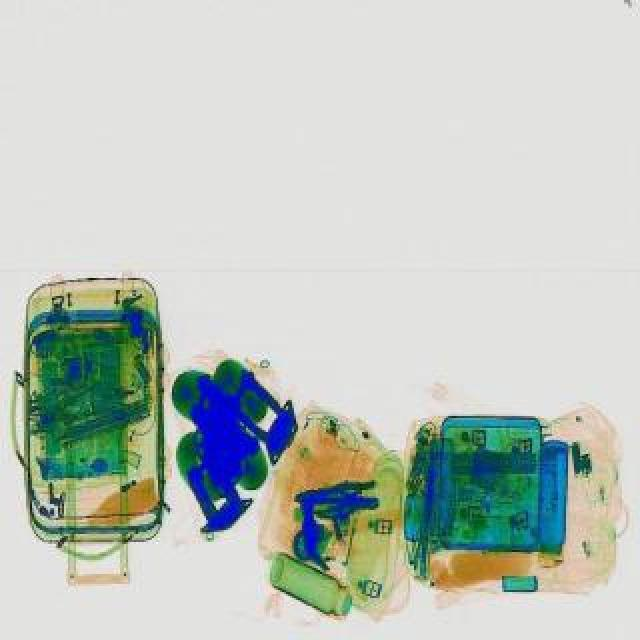wrench: (294, 480, 376, 512)
